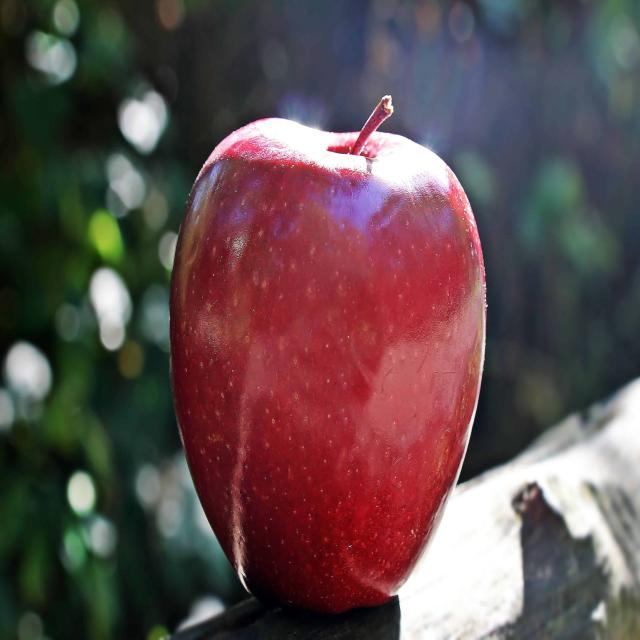manzana: (150, 90, 504, 625)
